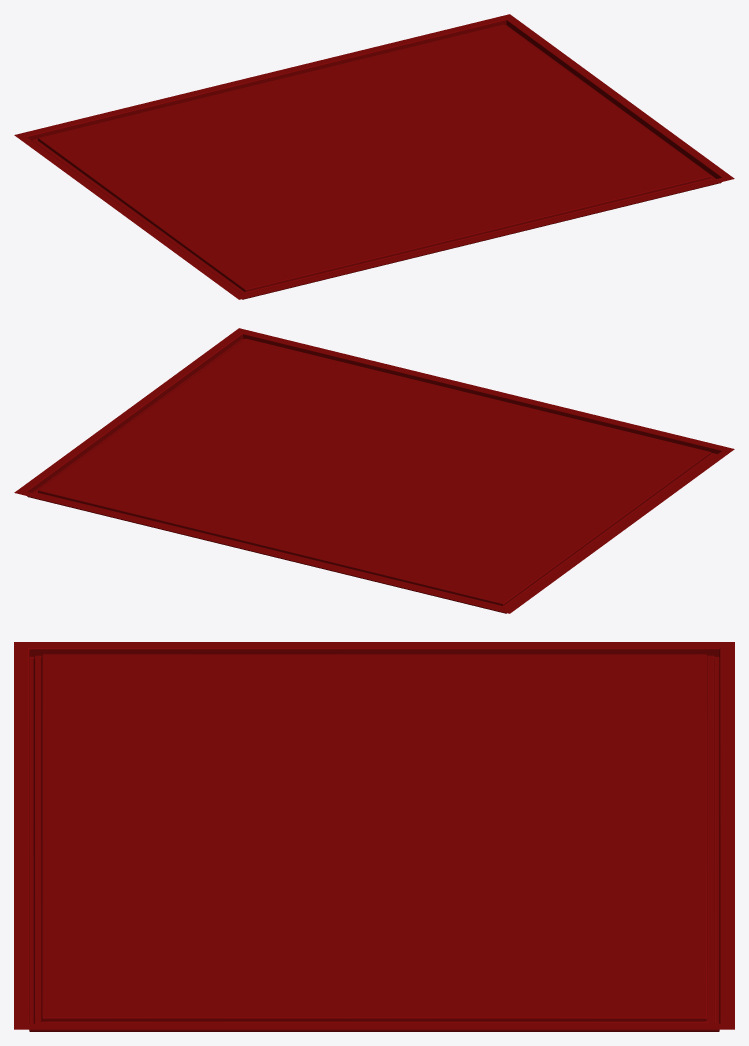
Rendered from SM_room_ceiling.fbx.
3 renders of one model, top to bottom at view 1: azimuth 30°, elevation 25°; view 2: azimuth 150°, elevation 25°; view 3: azimuth 270°, elevation 25°, orthographic. The views are drawn at different scales.
Visible parts, largest first — view 1: room_ceiling; view 2: room_ceiling; view 3: room_ceiling.
Part boxes in pixels (x1,y1,x2,y2): room_ceiling: (14, 14, 734, 299); room_ceiling: (14, 328, 734, 613); room_ceiling: (14, 642, 734, 1031).
Size of the model in its own units: 725 by 8 by 570.
